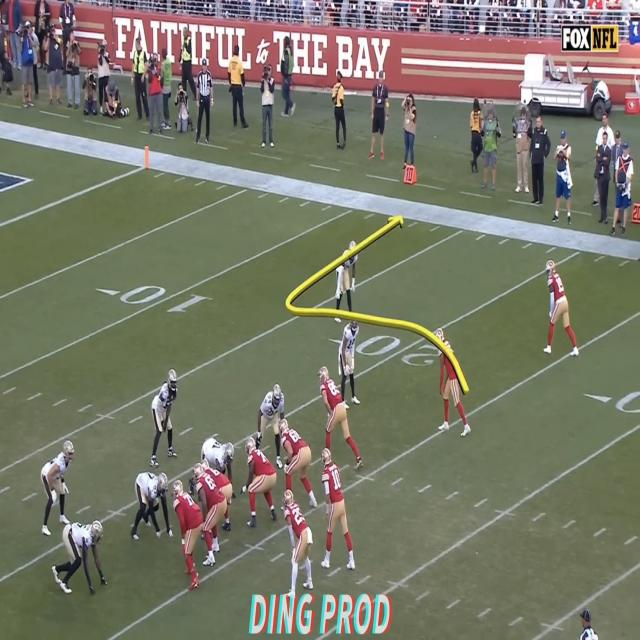players: (315, 450, 356, 579), (318, 370, 365, 472), (543, 259, 583, 360), (55, 519, 106, 598), (41, 438, 78, 541), (280, 421, 320, 515), (174, 484, 208, 592), (192, 464, 227, 566), (436, 352, 474, 443), (245, 436, 279, 534), (283, 492, 315, 594), (131, 468, 170, 548), (149, 371, 181, 468), (255, 380, 292, 462), (332, 236, 364, 318), (562, 590, 611, 639), (338, 322, 361, 411), (201, 433, 239, 485)
